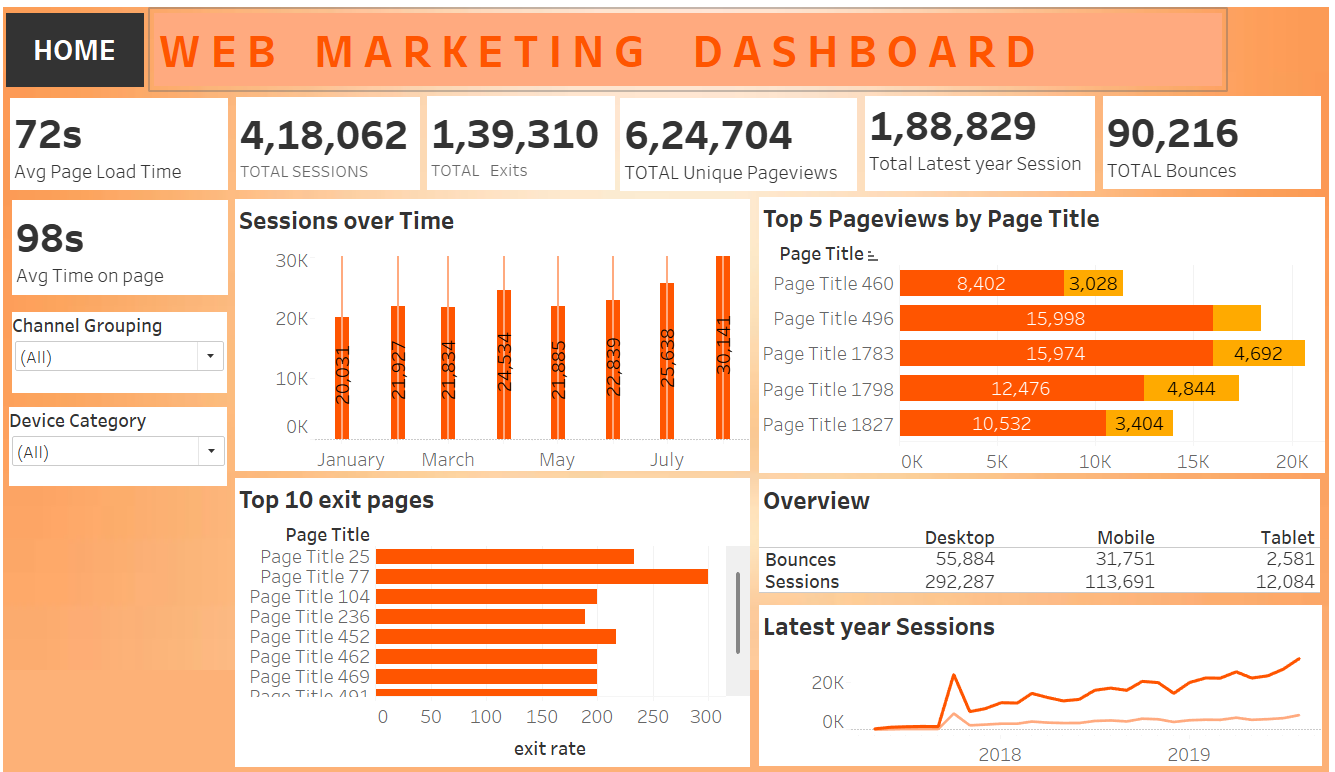

What the dashboard file says about the page in this screenshot:
{"tool":"tableau","page":{"name":"Dashboard 1 (2)","canvas":[1000,1000],"units":"permille","ordinal":1},"visuals":[{"type":"text","box":[5,10,181.1,87]},{"type":"text","box":[186.1,10,808.9,87]},{"type":"worksheet","title":"Bounces","mark":"Automatic","box":[848.1,92.5,149.4,117.5]},{"type":"worksheet","title":"Exits","mark":"Automatic","box":[331.2,95,161.9,135]},{"type":"dashboard-object","box":[5,97,178.1,65]},{"type":"blank","box":[183.1,97,811.9,893]},{"type":"worksheet","title":"Unique Page Views","mark":"Automatic","box":[494.4,98.8,163.1,111.2]},{"type":"worksheet","title":"Total Latest year session","mark":"Automatic","box":[667.5,102.5,171.9,118.8]},{"type":"worksheet","title":"Total Session","mark":"Automatic","box":[183.1,103.8,145,126.2]},{"type":"dashboard-object","box":[5,162,178.1,65]},{"type":"dashboard-object","box":[5,227,178.1,65]},{"type":"worksheet","title":"sessions over time","mark":"Automatic","rows":["Calculation_2358197396680806403"],"cols":["Date"],"box":[185.6,235,814.4,356.2]},{"type":"dashboard-object","box":[5,292,178.1,65]},{"type":"blank","box":[5,357,178.1,633]},{"type":"worksheet","title":"Load time","mark":"Automatic","box":[16.9,405,153.8,133.8]},{"type":"worksheet","title":"Time on page","mark":"Automatic","box":[15.6,583.8,154.4,117.5]},{"type":"worksheet","title":"Total sessions by device","mark":"Bar","rows":["Device Category"],"cols":["Sessions"],"box":[184.4,593.8,370.6,406.2]},{"type":"worksheet","title":"Session by page title","mark":"Automatic","rows":["Sessions"],"cols":["Page Title"],"box":[564.4,612.5,432.5,386.2]},{"type":"legend","title":"Session by page title","param":"[federated.1m6ulvh0c3j91d1e36qp70bncnm7].[none:Device Category:nk]","box":[870,618.8,87.5,126.2]},{"type":"filter","title":"Total Session","param":"[federated.1m6ulvh0c3j91d1e36qp70bncnm7].[none:Channel Grouping:nk]","box":[16.9,741.2,151.9,106.2]}]}

Visuals, with their boxes on the dashboard's canvas, which has no fixed pixel size, in thousandths of its width and height (x1, y1, x2, y2). These are canvas units, not pixel positions in the 1335x772 screenshot, which may show the page scaled, cropped or inside an application window:
text: l=5, t=10, r=186, b=97
text: l=186, t=10, r=995, b=97
"Bounces" worksheet: l=848, t=92, r=998, b=210
"Exits" worksheet: l=331, t=95, r=493, b=230
dashboard-object: l=5, t=97, r=183, b=162
blank: l=183, t=97, r=995, b=990
"Unique Page Views" worksheet: l=494, t=99, r=658, b=210
"Total Latest year session" worksheet: l=668, t=102, r=839, b=221
"Total Session" worksheet: l=183, t=104, r=328, b=230
dashboard-object: l=5, t=162, r=183, b=227
dashboard-object: l=5, t=227, r=183, b=292
"sessions over time" worksheet: l=186, t=235, r=1000, b=591
dashboard-object: l=5, t=292, r=183, b=357
blank: l=5, t=357, r=183, b=990
"Load time" worksheet: l=17, t=405, r=171, b=539
"Time on page" worksheet: l=16, t=584, r=170, b=701
"Total sessions by device" worksheet (Bar marks): l=184, t=594, r=555, b=1000
"Session by page title" worksheet: l=564, t=612, r=997, b=999
"Session by page title" legend: l=870, t=619, r=958, b=745
"Total Session" filter: l=17, t=741, r=169, b=847
